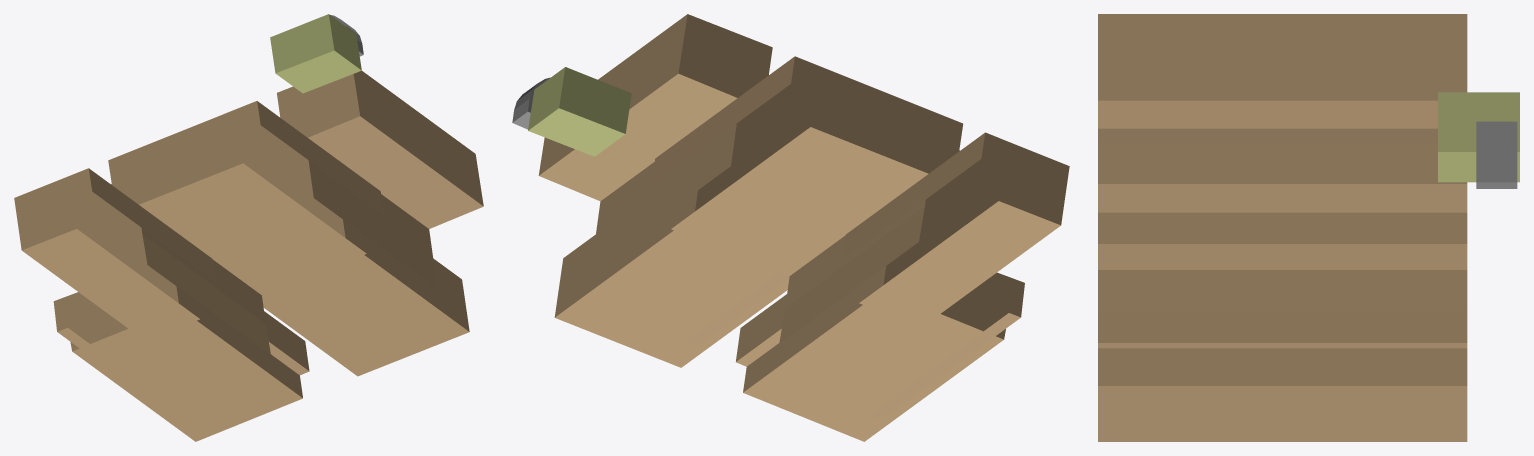
The picture shows the model from 3 angles, left to right: view 1: azimuth 30°, elevation 25°; view 2: azimuth 150°, elevation 25°; view 3: azimuth 270°, elevation 25°; orthographic projection. The views are drawn at different scales.
Parts seen in each view (by area): view 1: 0_1_2_0_3_1_2_3_0; view 2: 0_1_2_0_3_1_2_3_0; view 3: 0_1_2_0_3_1_2_3_0.
Boxes of the visible parts, x1,y1,x2,y2 form: 0_1_2_0_3_1_2_3_0: (14, 14, 483, 441); 0_1_2_0_3_1_2_3_0: (512, 14, 1069, 441); 0_1_2_0_3_1_2_3_0: (1098, 14, 1519, 441).
Size of the model in its own units: 44.47 by 31.05 by 30.85.
